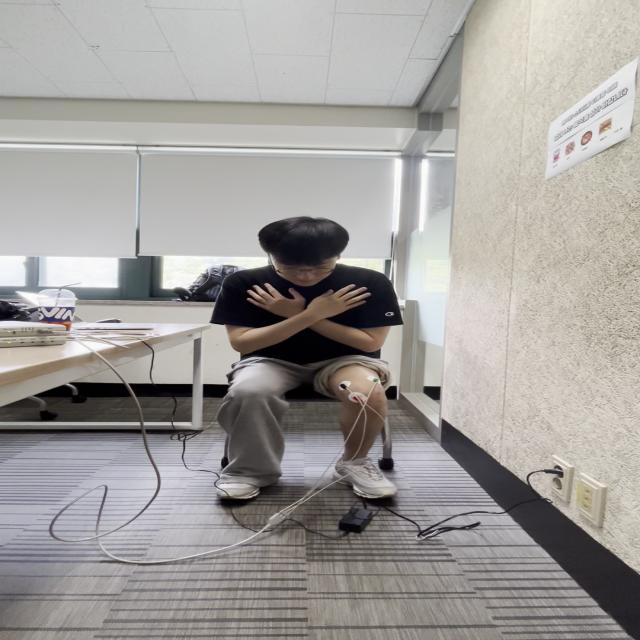squat: (225, 266, 390, 438), (215, 348, 393, 419), (318, 364, 396, 510), (215, 364, 285, 504)
